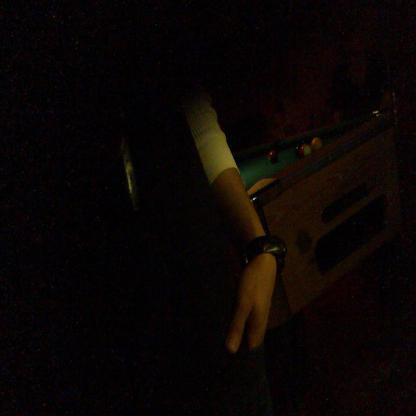Ball: (292, 138, 323, 160), (266, 149, 278, 164)
